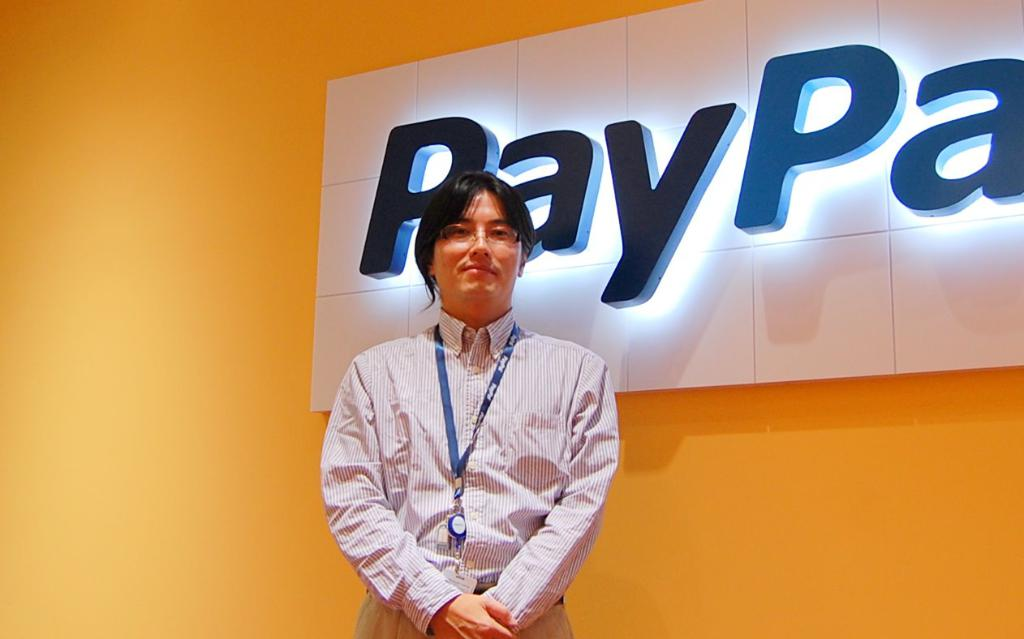Human-face: (428, 183, 523, 312)
